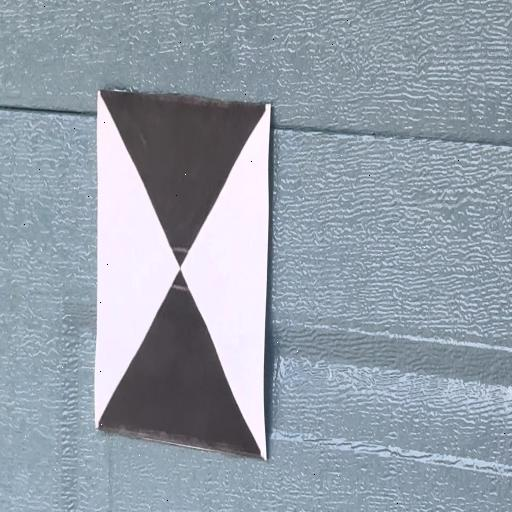target: (94, 89, 273, 459)
